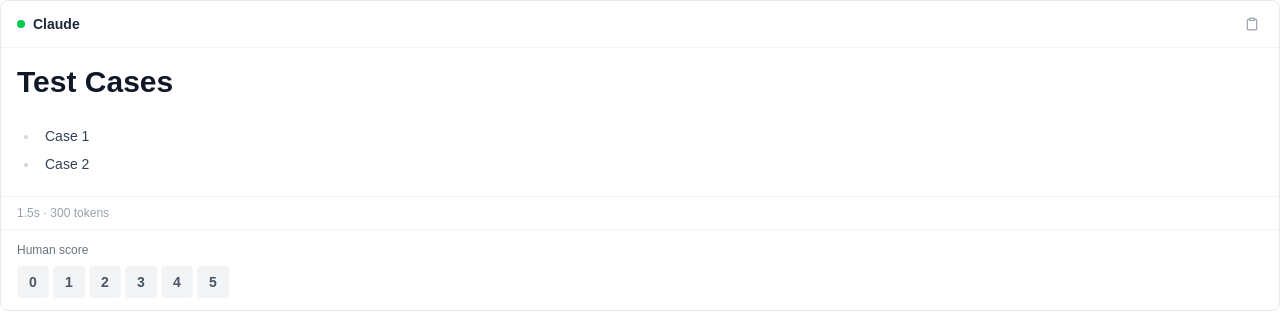
Scenario: ModelOutputPanel copy button › after copying, button label changes to "Copied"
The width and height of the screenshot is (1280, 328).
Click the button named "copy output" at {"x": 1252, "y": 24}, box [1241,13,1263,35]
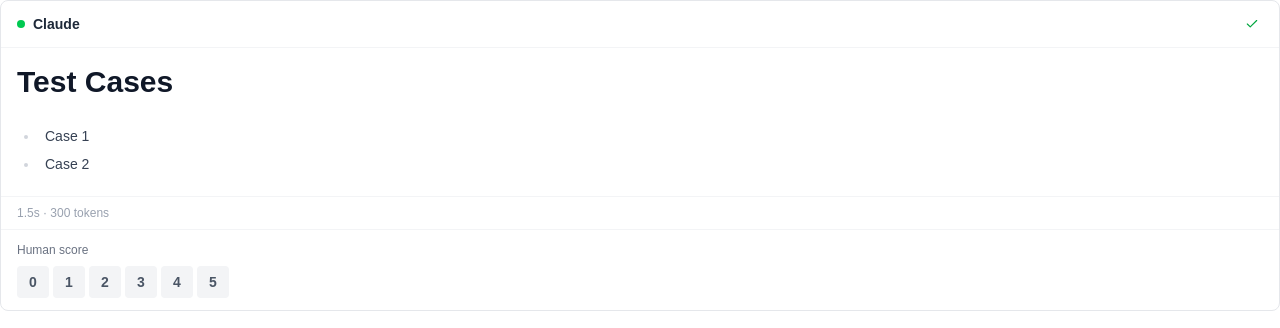
expect the button named "copied" is shown: met, box [1241,13,1263,35]
